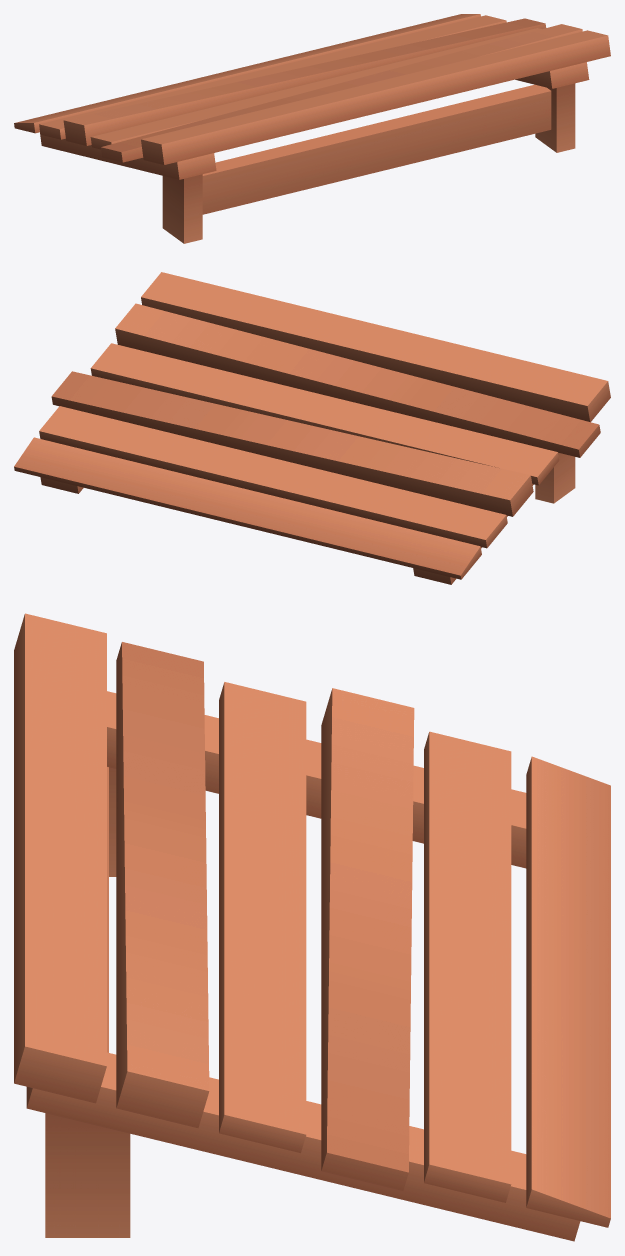
File: ramp-wide-transformed.glb
3 renders of one model, top to bottom at view 1: azimuth 30°, elevation 25°; view 2: azimuth 150°, elevation 25°; view 3: azimuth 270°, elevation 25°, orthographic. The views are drawn at different scales.
Visible parts, largest first — view 1: ramp-wide; view 2: ramp-wide; view 3: ramp-wide.
Part boxes in pixels (bbox=[...]): ramp-wide: bbox=[14, 14, 610, 243]; ramp-wide: bbox=[14, 272, 610, 584]; ramp-wide: bbox=[14, 613, 610, 1241].
Size of the model in its own units: 5.14 by 1.14 by 2.81.
1 material, 1 textured.
